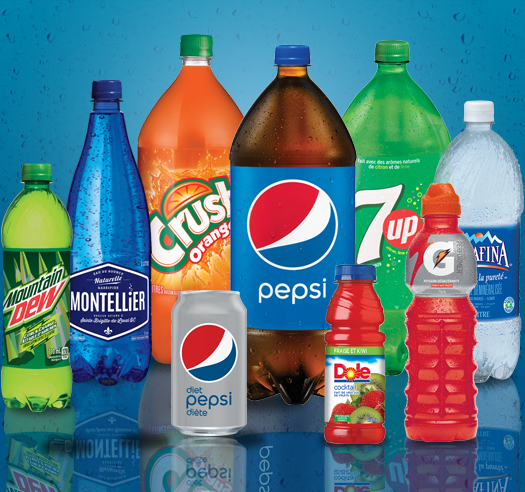pepsi: (246, 178, 338, 270), (246, 180, 338, 270), (180, 322, 237, 382)
